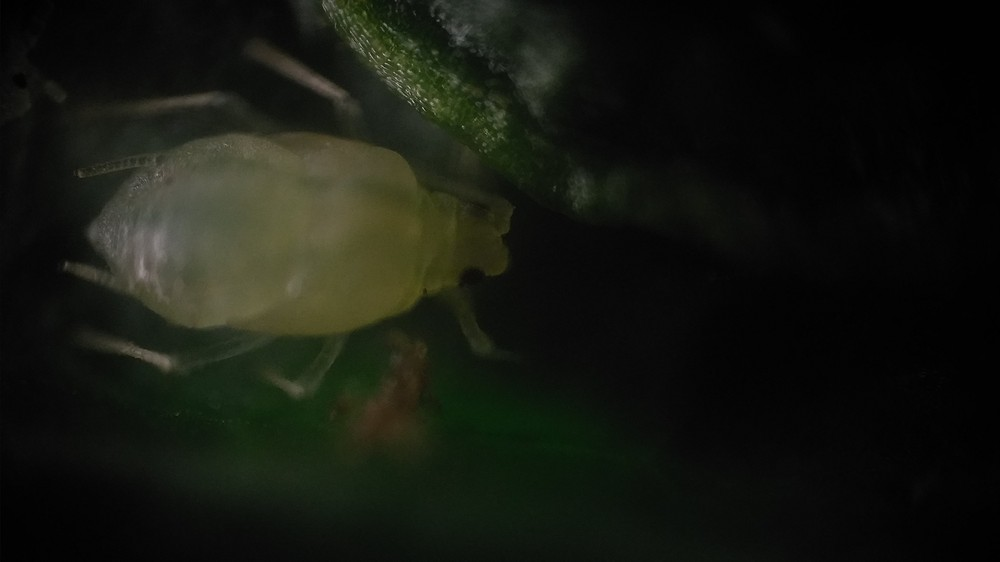Pulgon: (40, 47, 562, 417)
